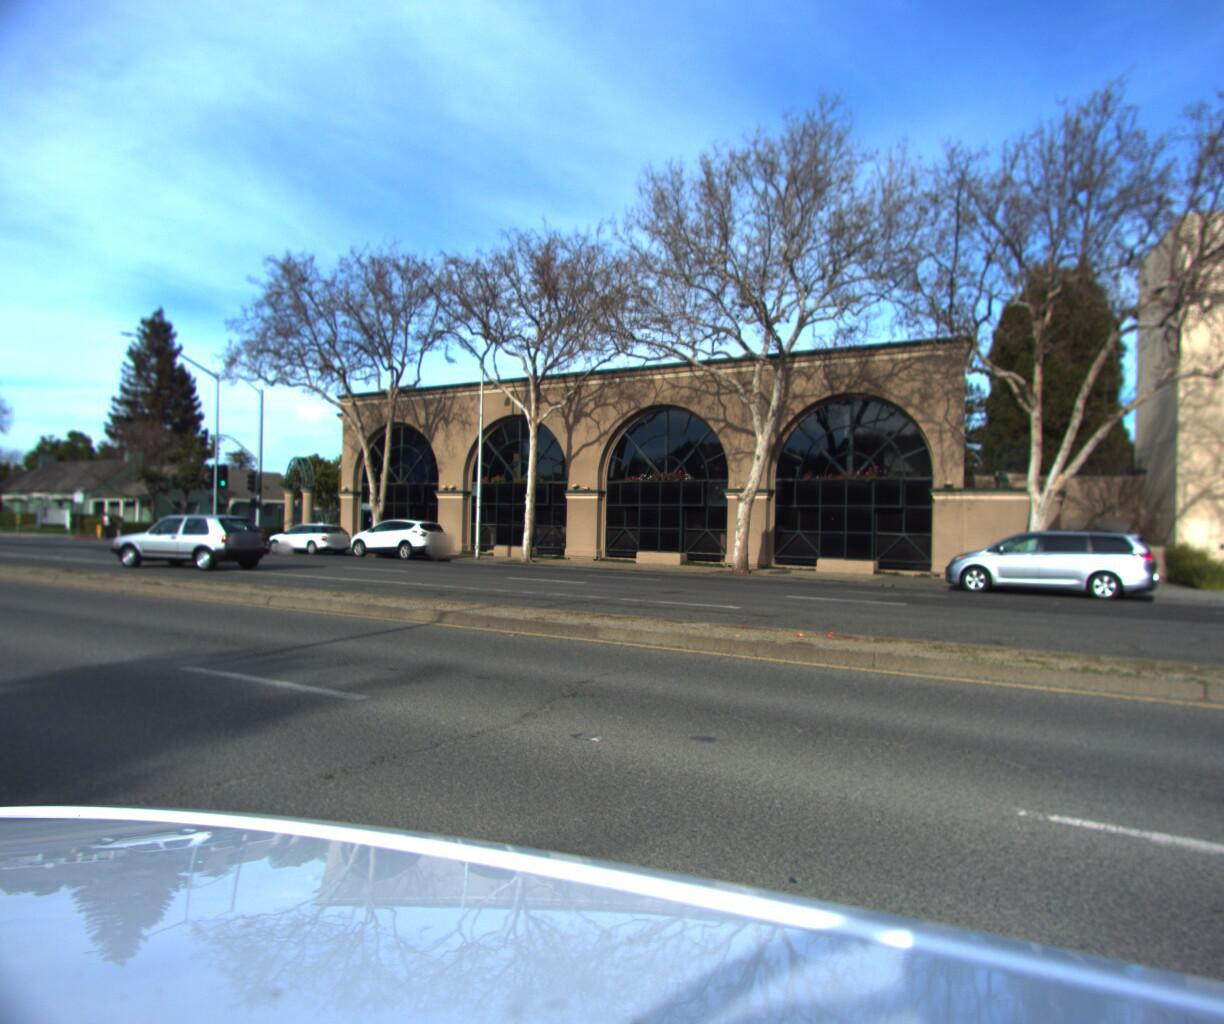bicycle: (83, 513, 127, 542)
car: (926, 525, 1160, 605), (102, 515, 279, 575), (336, 518, 451, 565), (258, 523, 353, 562)
